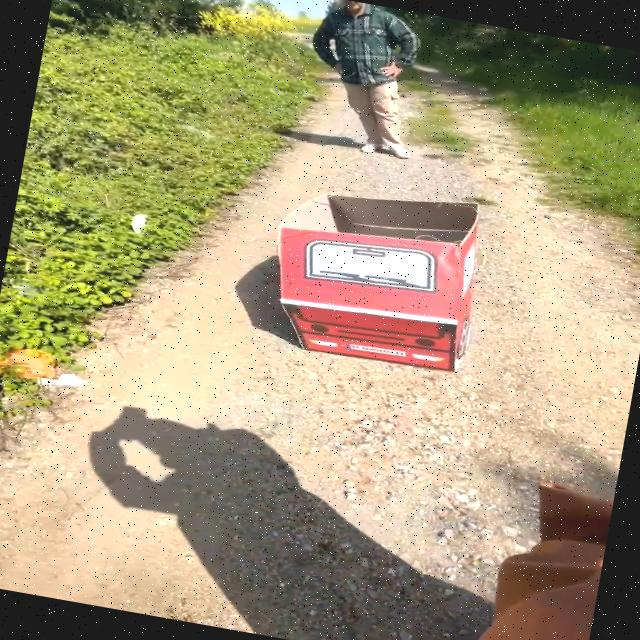red_car: (237, 162, 512, 407)
